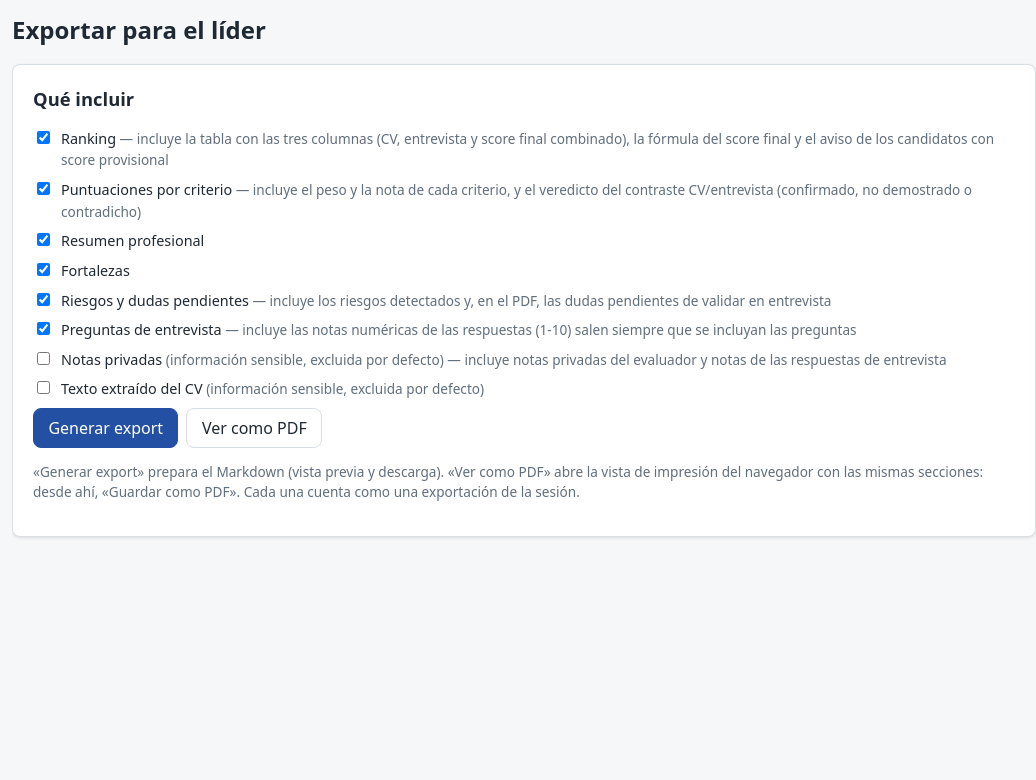
Test: ExportPage › al marcar notas privadas aparece el aviso de información sensible
Click the checkbox labelled "Notas privadas" at (44, 358), box [37,352,50,365]
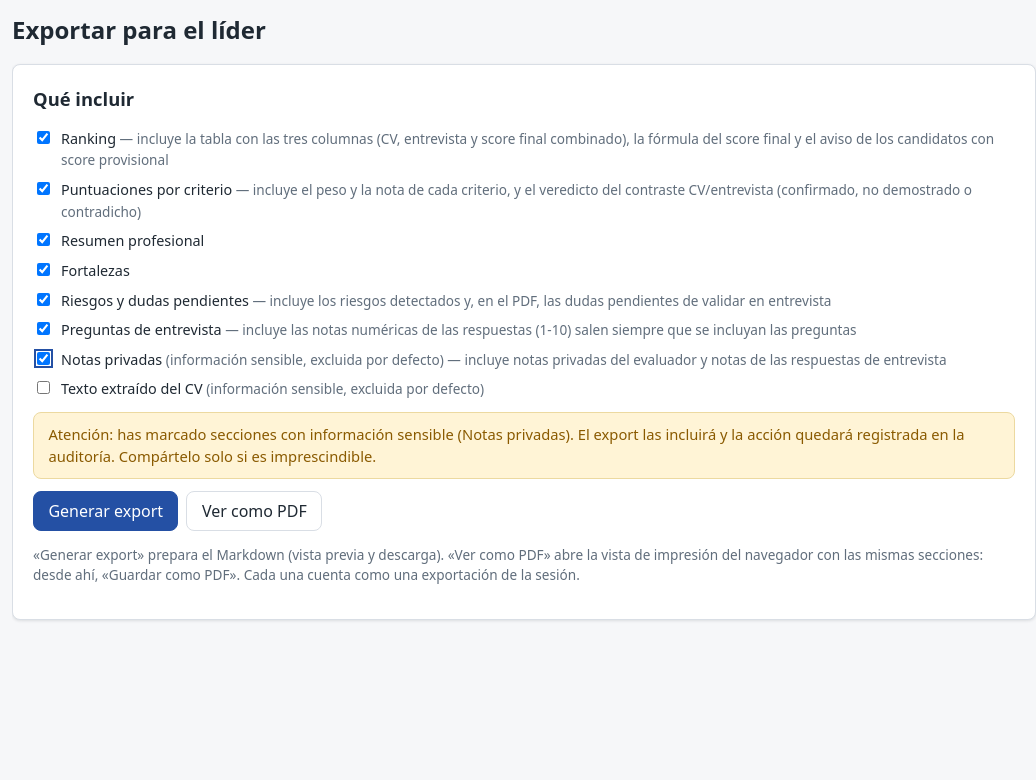
Check: the text "has marcado secciones con información sensible" is shown, box [48,424,462,444]
Check: the message shows "Notas privadas", box [462,424,566,444]
